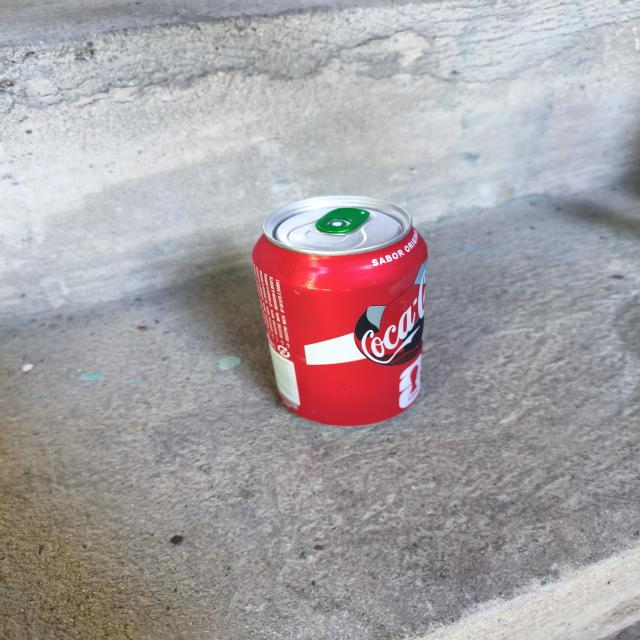Coca Cola: (232, 176, 496, 465)
